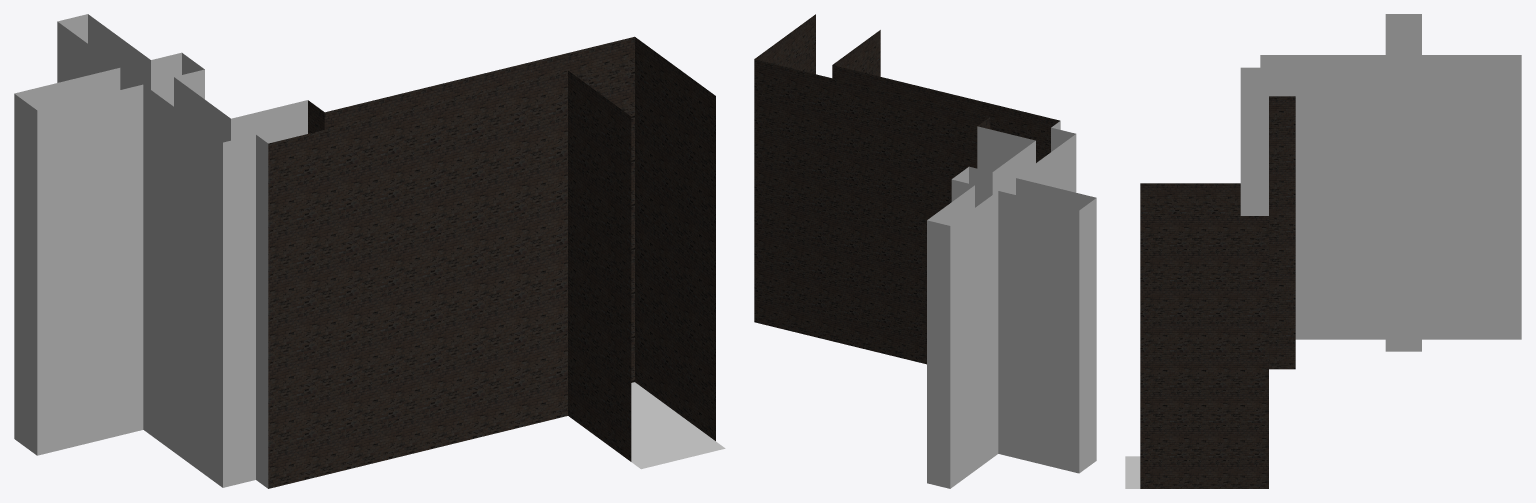
Rendered from bad_trip_alley.FBX.
3 renders of one model, left to right at view 1: azimuth 30°, elevation 25°; view 2: azimuth 150°, elevation 25°; view 3: azimuth 270°, elevation 25°, orthographic. The views are drawn at different scales.
Parts seen in each view (by area): view 1: trip_alley_wall, trip_alley_floor; view 2: trip_alley_wall; view 3: trip_alley_wall, trip_alley_floor.
Boxes of the visible parts, bbox=[...] form: trip_alley_wall: bbox=[14, 14, 715, 488]; trip_alley_floor: bbox=[631, 382, 725, 469]; trip_alley_wall: bbox=[754, 14, 1096, 488]; trip_alley_wall: bbox=[1140, 14, 1521, 488]; trip_alley_floor: bbox=[1125, 456, 1140, 488].
Bounding box in the file's own units: 2188 × 1379 × 1815.
